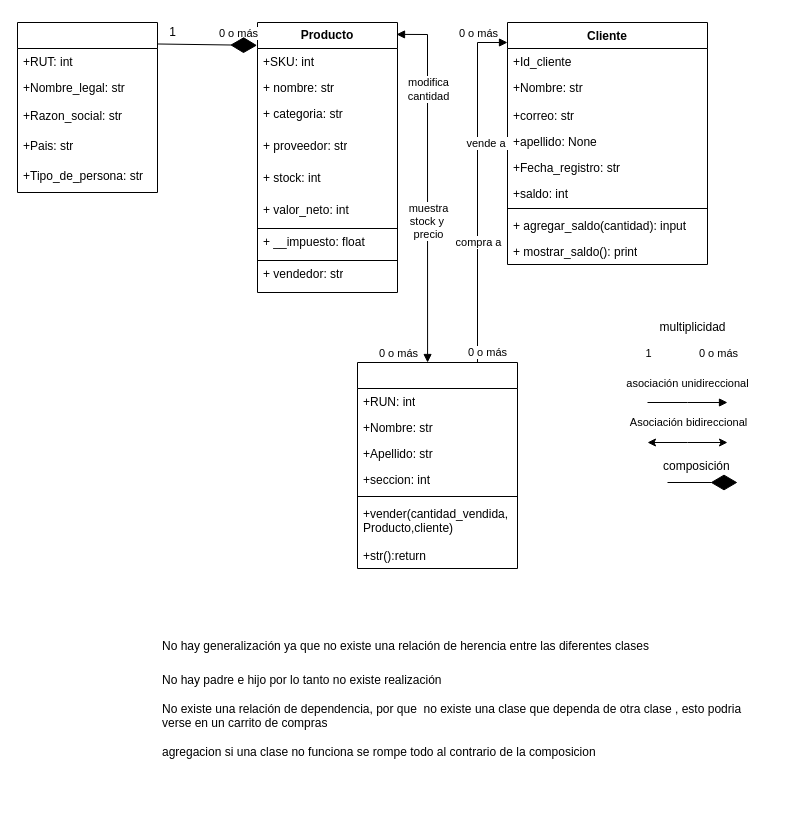
Image size: 785x829. Some labels were removed from this diagram. Here are the shapes that lost their labels. From the top down, the box of each, then its label:
(16, 22, 158, 192): Proveedor
(356, 362, 518, 568): Vendedor
